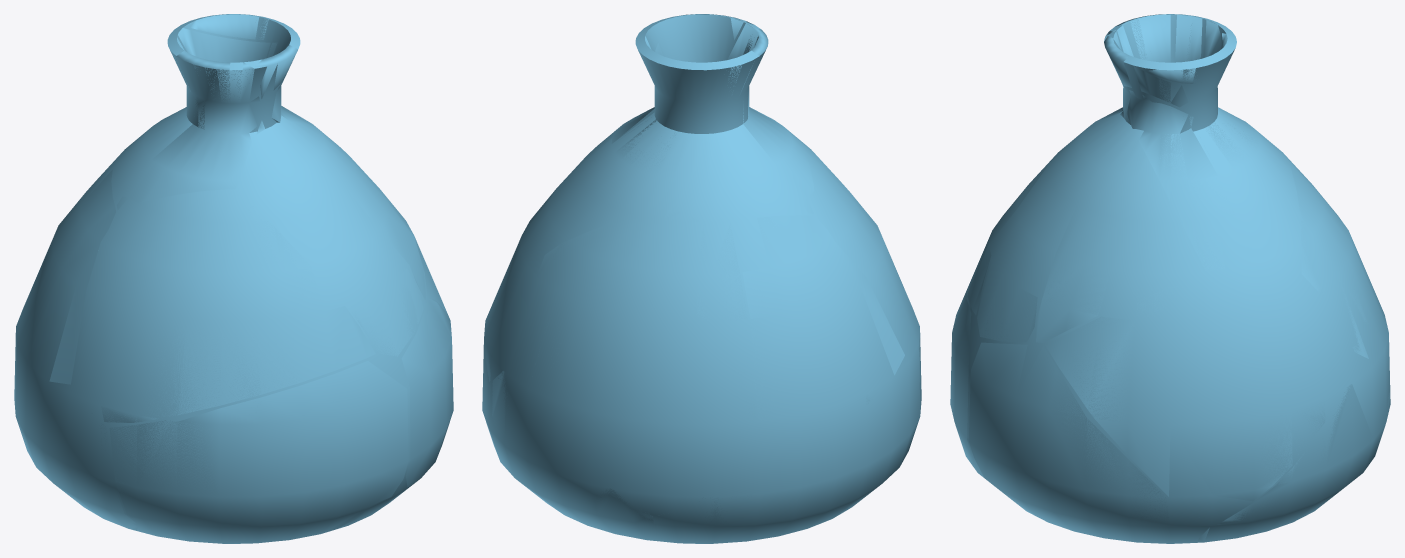
The model's file is Vase-big.fbx.
3 views of the same model, side by side, from view 1: azimuth 30°, elevation 25°; view 2: azimuth 150°, elevation 25°; view 3: azimuth 270°, elevation 25° (orthographic).
Parts seen in each view (by area): view 1: vase_thick, vase_thick_cell.011, vase_thick_cell.018, vase_thick_cell.010, vase_thick_cell.012, vase_thick_cell.014, vase_thick_cell.006, vase_thick_cell.005, vase_thick_cell.008, vase_thick_cell, vase_thick_cell.015, vase_thick_cell.007; view 2: vase_thick, vase_thick_cell.012, vase_thick_cell.013, vase_thick_cell.001, vase_thick_cell.008, vase_thick_cell.010, vase_thick_cell.016, vase_thick_cell.007; view 3: vase_thick, vase_thick_cell.004, vase_thick_cell.014, vase_thick_cell.005, vase_thick_cell.007, vase_thick_cell.001, vase_thick_cell.013, vase_thick_cell.006, vase_thick_cell.011, vase_thick_cell, vase_thick_cell.010, vase_thick_cell.018 (+3 smaller).
Part boxes in pixels (<box>): vase_thick: <box>14,14,449,543</box>; vase_thick_cell.011: <box>109,361,408,540</box>; vase_thick_cell.018: <box>101,206,375,422</box>; vase_thick_cell.010: <box>117,50,260,210</box>; vase_thick_cell.012: <box>16,169,115,384</box>; vase_thick_cell.014: <box>401,297,453,492</box>; vase_thick_cell.006: <box>256,120,423,356</box>; vase_thick_cell.005: <box>318,131,425,299</box>; vase_thick_cell.008: <box>16,418,137,530</box>; vase_thick_cell: <box>178,28,297,98</box>; vase_thick_cell.015: <box>190,14,268,39</box>; vase_thick_cell.007: <box>271,84,321,131</box>; vase_thick: <box>482,14,921,543</box>; vase_thick_cell.012: <box>742,215,904,420</box>; vase_thick_cell.013: <box>536,209,699,420</box>; vase_thick_cell.001: <box>482,371,661,541</box>; vase_thick_cell.008: <box>656,382,920,543</box>; vase_thick_cell.010: <box>727,21,814,213</box>; vase_thick_cell.016: <box>696,223,754,422</box>; vase_thick_cell.007: <box>551,107,654,197</box>; vase_thick: <box>966,14,1390,543</box>; vase_thick_cell.004: <box>1045,273,1330,501</box>; vase_thick_cell.014: <box>968,342,1171,543</box>; vase_thick_cell.005: <box>1036,140,1170,342</box>; vase_thick_cell.007: <box>1126,90,1234,270</box>; vase_thick_cell.001: <box>1197,384,1390,542</box>; vase_thick_cell.013: <box>1277,148,1368,358</box>; vase_thick_cell.006: <box>977,107,1123,342</box>; vase_thick_cell.011: <box>950,287,974,467</box>; vase_thick_cell: <box>1104,20,1221,107</box>; vase_thick_cell.010: <box>1091,14,1170,124</box>; vase_thick_cell.018: <box>967,143,1068,314</box>.
Size of the model in its own units: 34.15 by 40.36 by 34.15.
